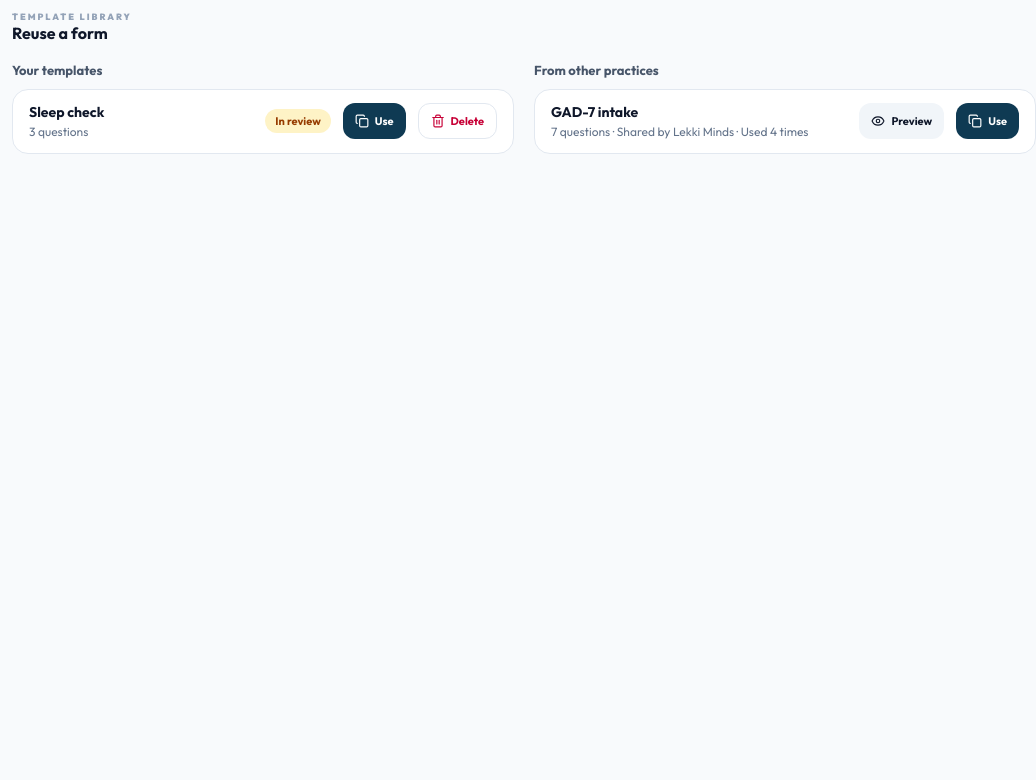
Test: Template library › deletes my own template after confirming
The width and height of the screenshot is (1036, 780).
What coordinates should you click on to do the following:
click the button "Delete"
I would click on:
 (457, 121)
Its box is [418,103,497,139].
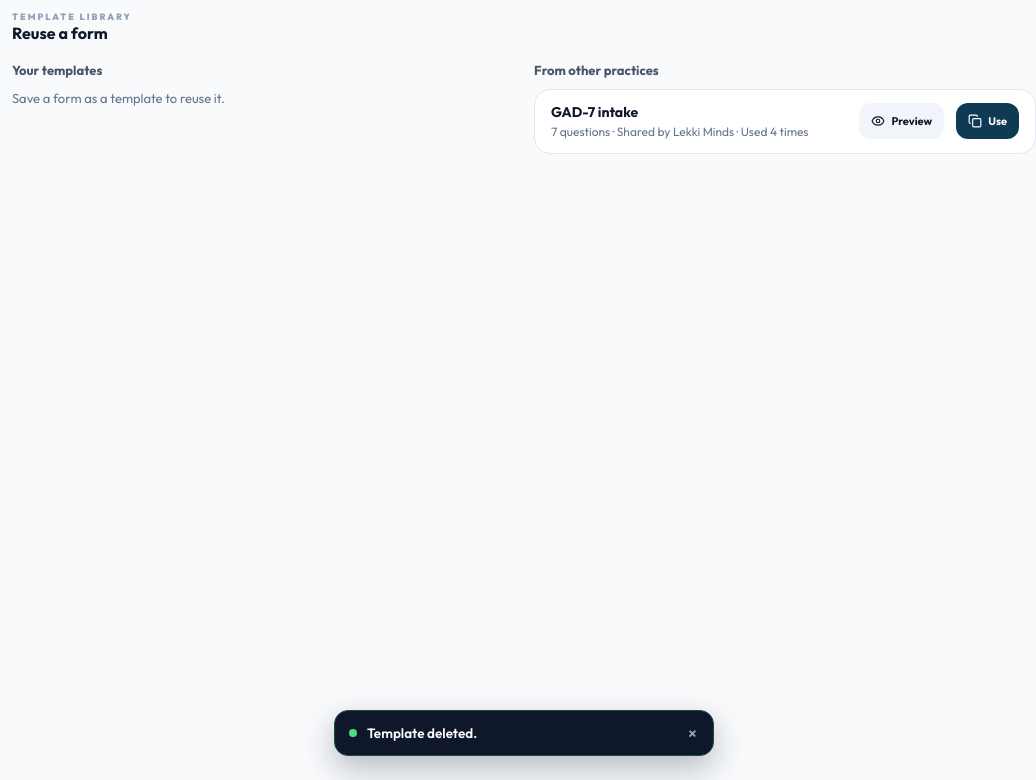
Now the text "Sleep check" is gone
